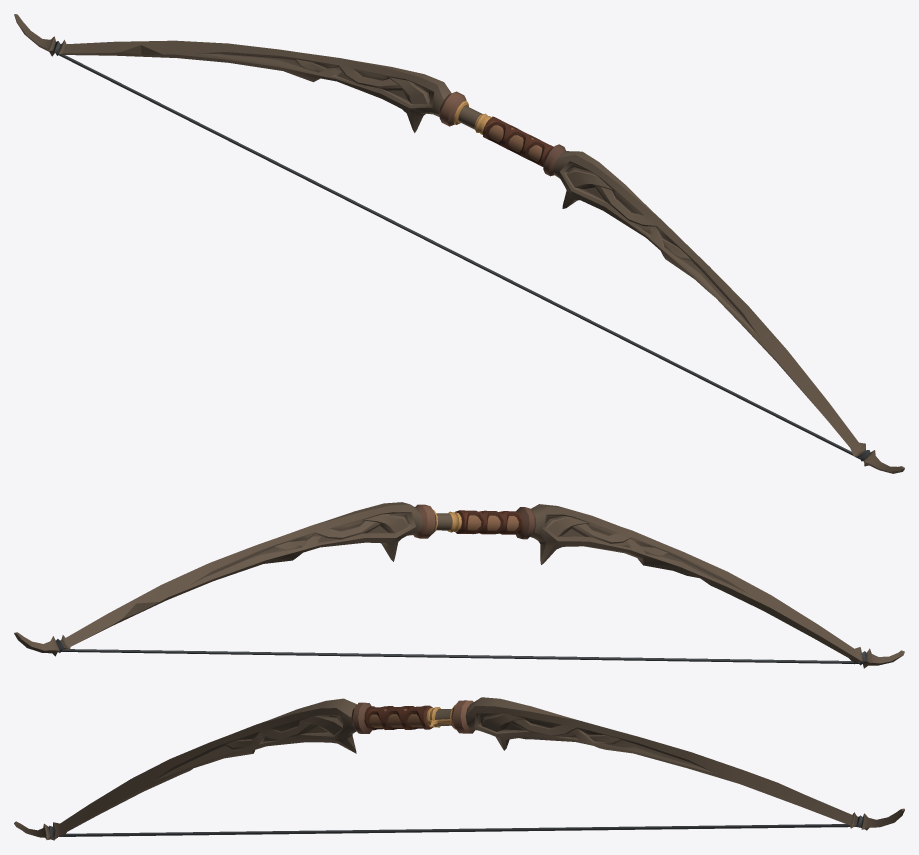
File: bw-longbow-02.glb
The picture shows the model from 3 angles, top to bottom: view 1: azimuth 90°, elevation 25°; view 2: azimuth 150°, elevation 25°; view 3: azimuth 270°, elevation 25°; orthographic projection.
Visible parts, largest first — view 1: bw-longbow-02; view 2: bw-longbow-02; view 3: bw-longbow-02.
Part boxes in pixels (x1,y1,x2,y2): bw-longbow-02: (14,14,904,473); bw-longbow-02: (14,502,904,668); bw-longbow-02: (14,697,904,840).
Bounding box in the file's own units: 1.06 × 0.5923 × 1.79.
1 material, 1 textured.
